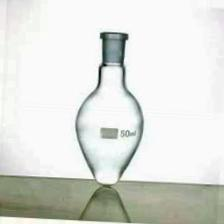Pear shaped flask: (76, 20, 151, 188)
